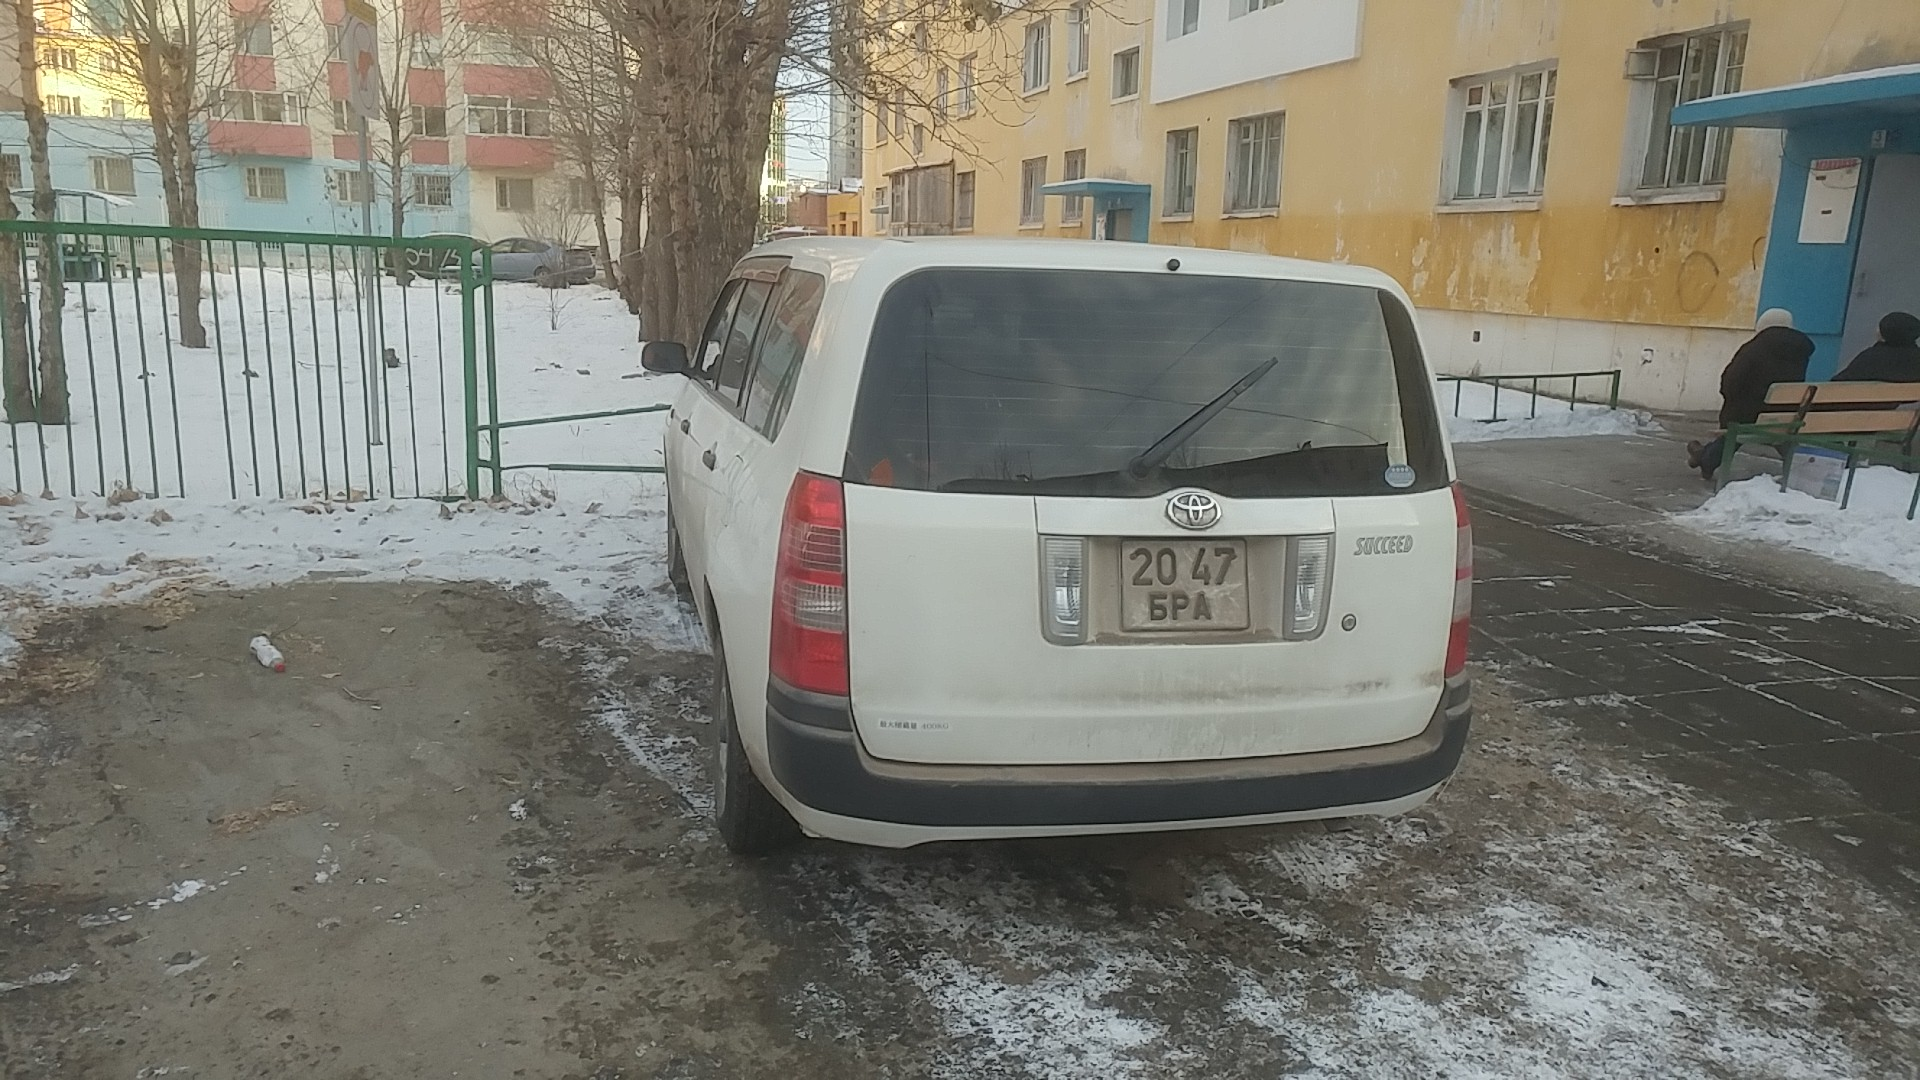0: (1155, 547, 1180, 587)
2: (1130, 546, 1154, 586)
4: (1191, 546, 1213, 587)
7: (1212, 545, 1238, 585)
a: (1192, 592, 1214, 620)
b: (1148, 590, 1170, 623)
plate: (1116, 530, 1254, 637)
r: (1171, 591, 1191, 621)
